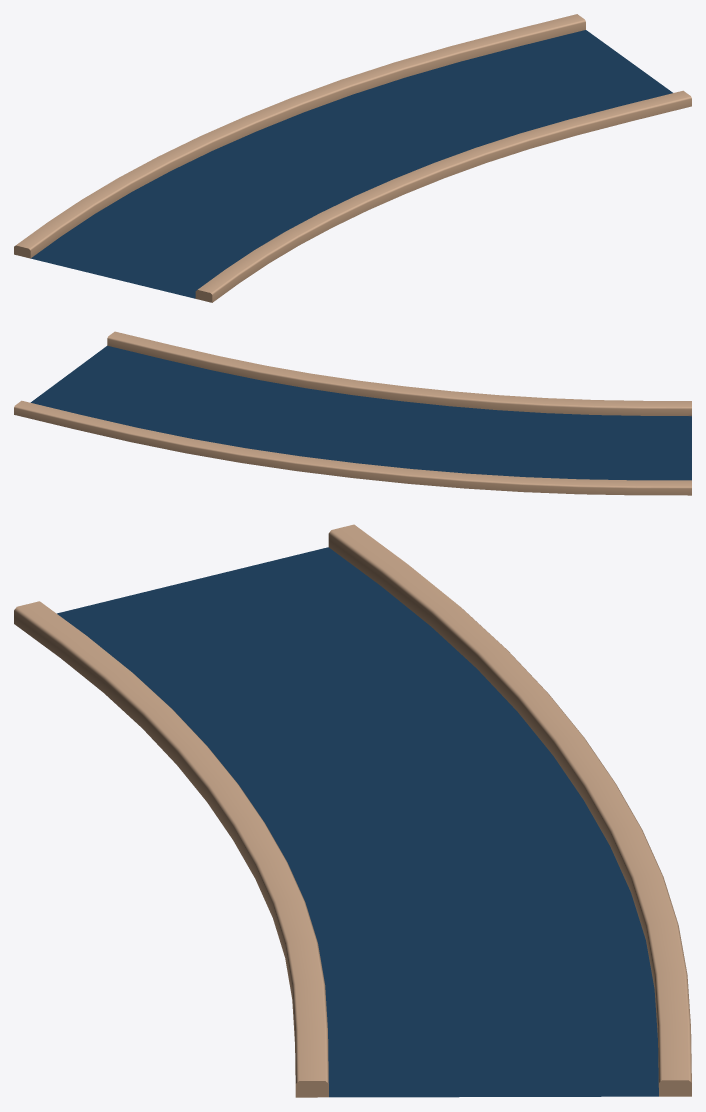
File: PokemonMonster_Landing_Road30do.fbx
The picture shows the model from 3 angles, top to bottom: view 1: azimuth 30°, elevation 25°; view 2: azimuth 150°, elevation 25°; view 3: azimuth 270°, elevation 25°; orthographic projection. The views are drawn at different scales.
Visible parts, largest first — view 1: Road_30; view 2: Road_30; view 3: Road_30.
Boxes of the visible parts, x1,y1,x2,y2 form: Road_30: (14, 14, 691, 302); Road_30: (14, 331, 691, 495); Road_30: (14, 524, 691, 1097).
Size of the model in its own units: 1997 by 27.5 by 1027.
1 material, 1 textured.
